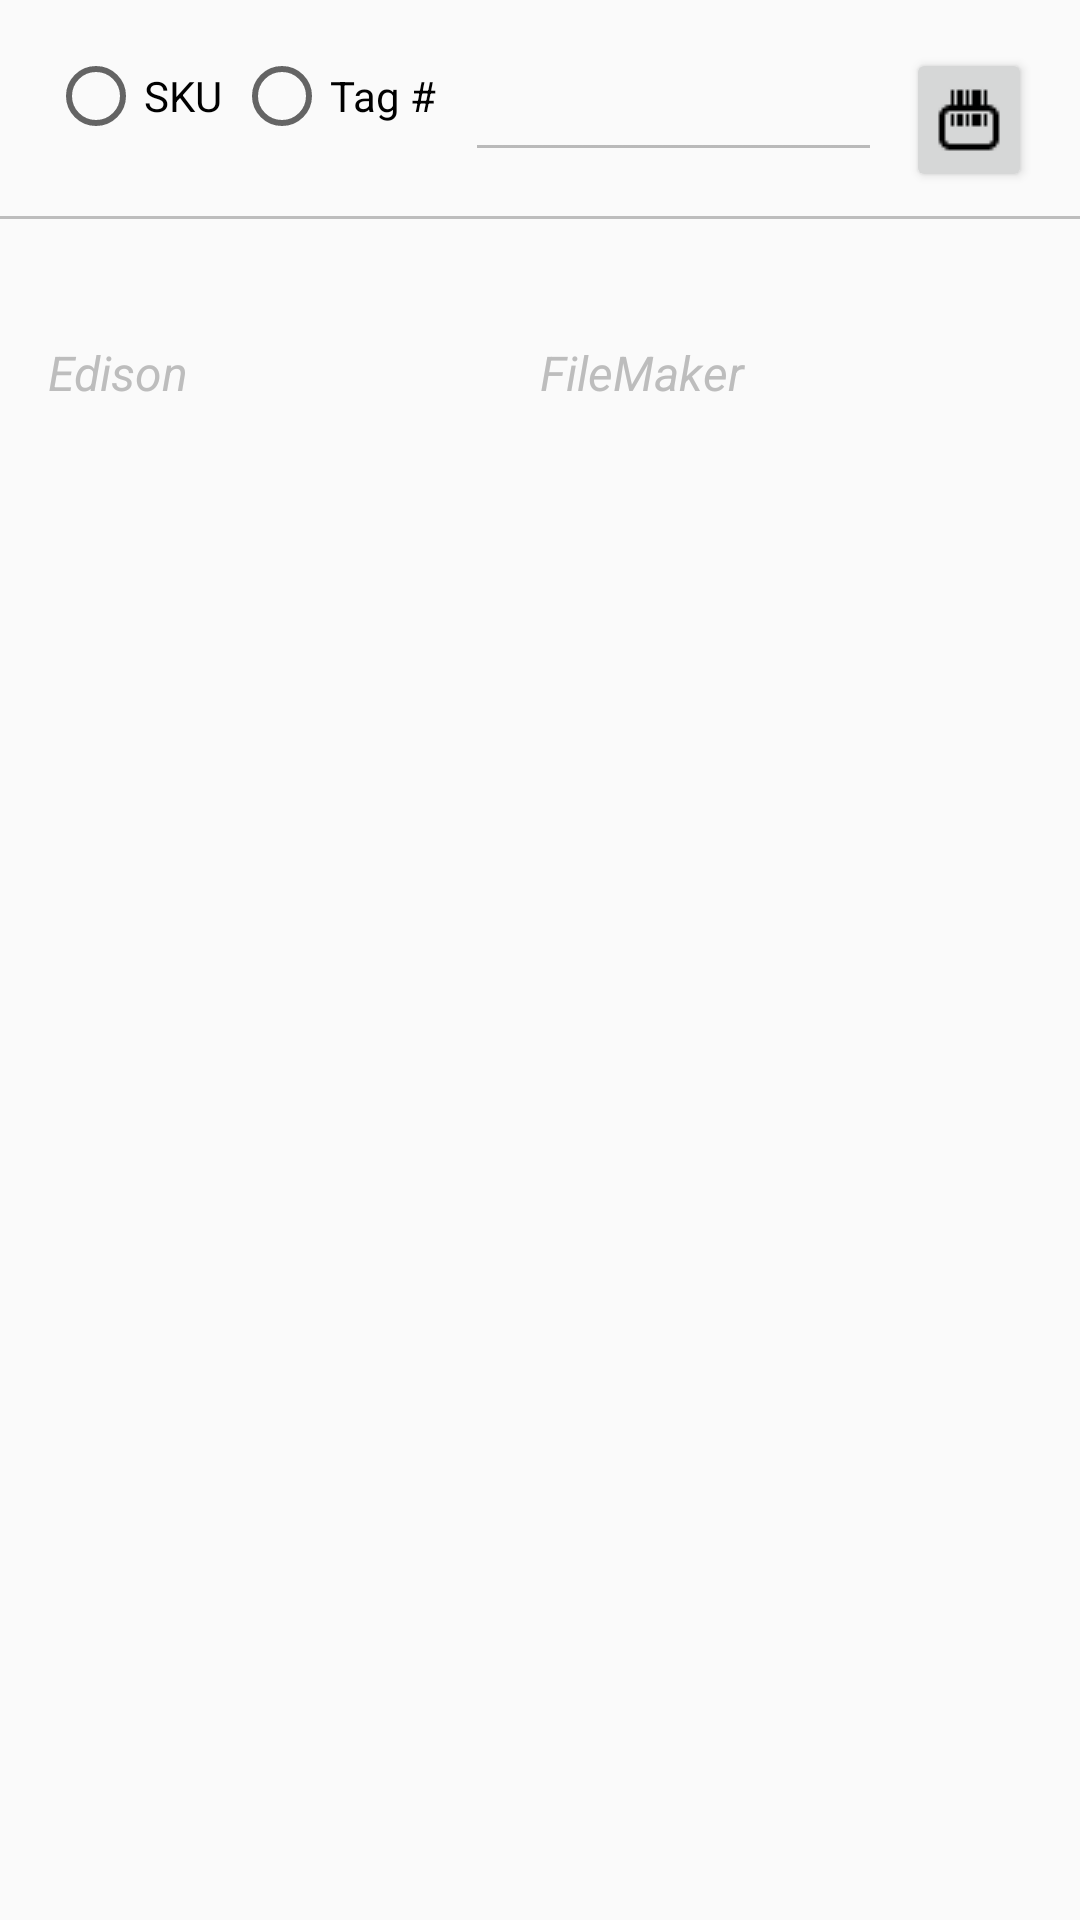

Screen size 1080×1920. Icon name, then its box in pixels as box(x1, y1, x2, y2):
barcode scanner: box(938, 89, 1000, 151)
